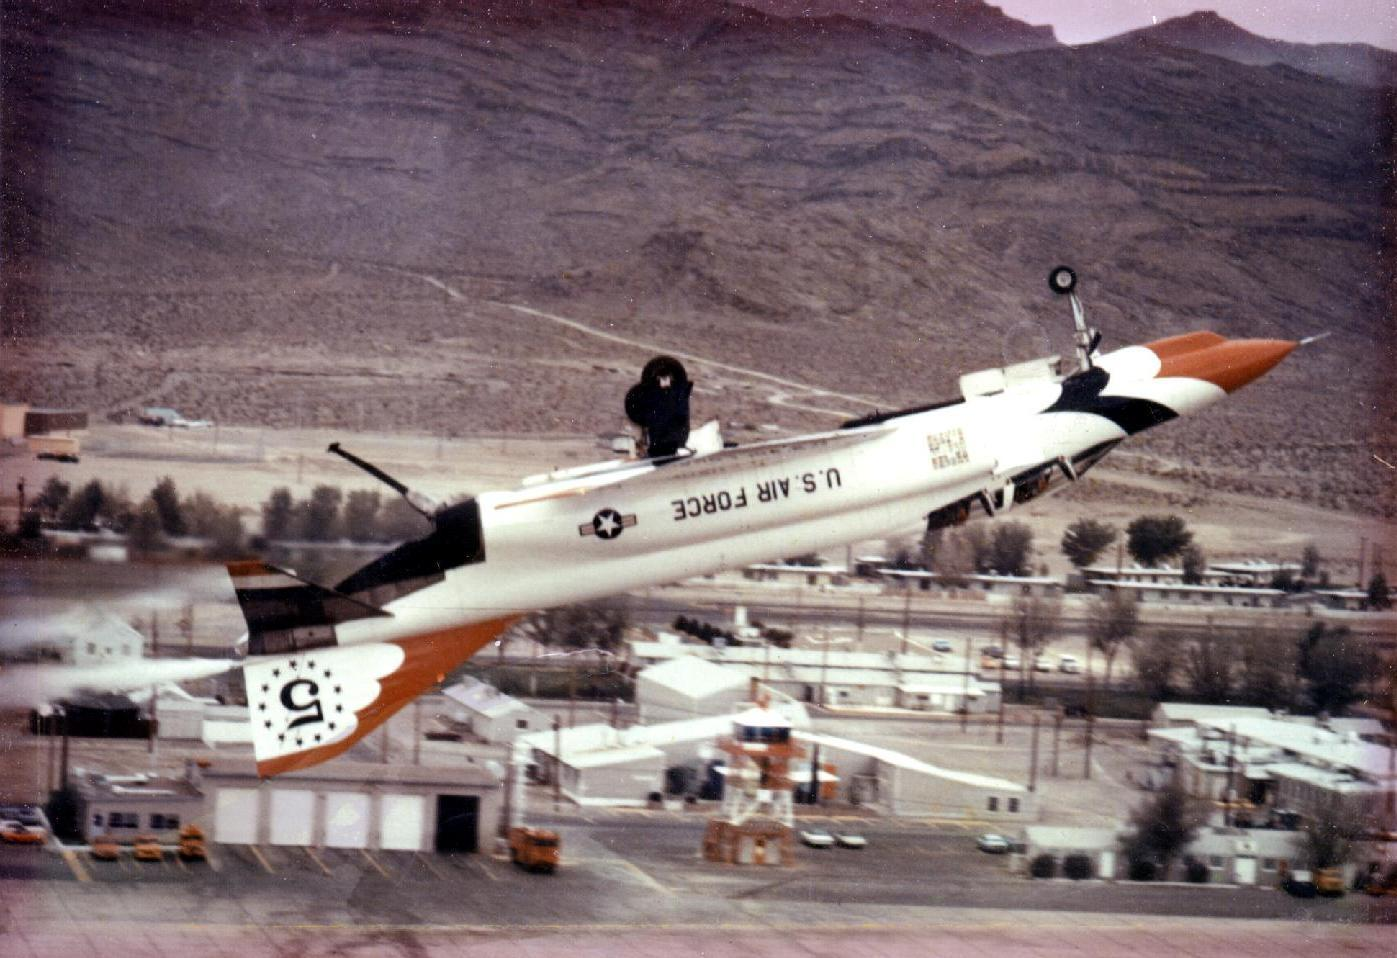F4: (222, 264, 1332, 785)
